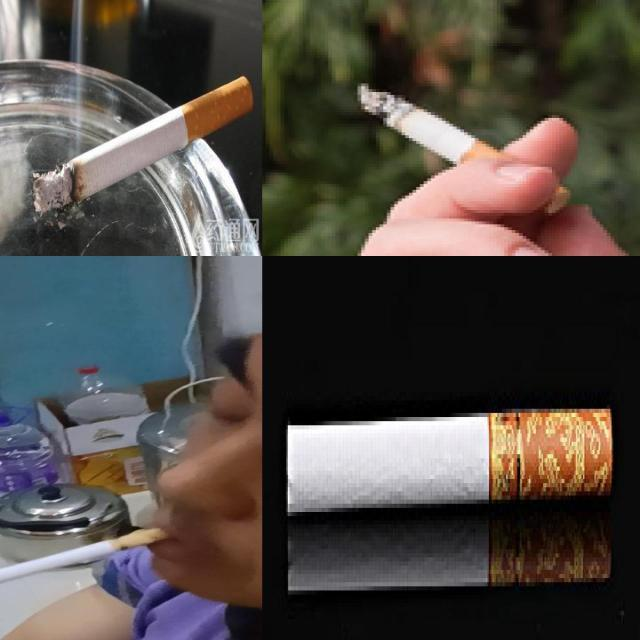smoking: (285, 404, 612, 508), (33, 74, 255, 214), (0, 529, 172, 591), (350, 78, 483, 158)
